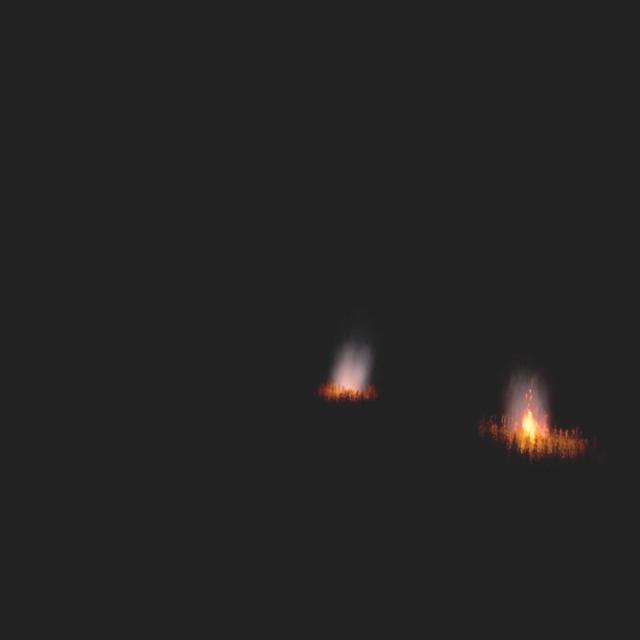fire: (520, 398, 550, 440)
smoke: (507, 372, 554, 441), (329, 340, 377, 396)
